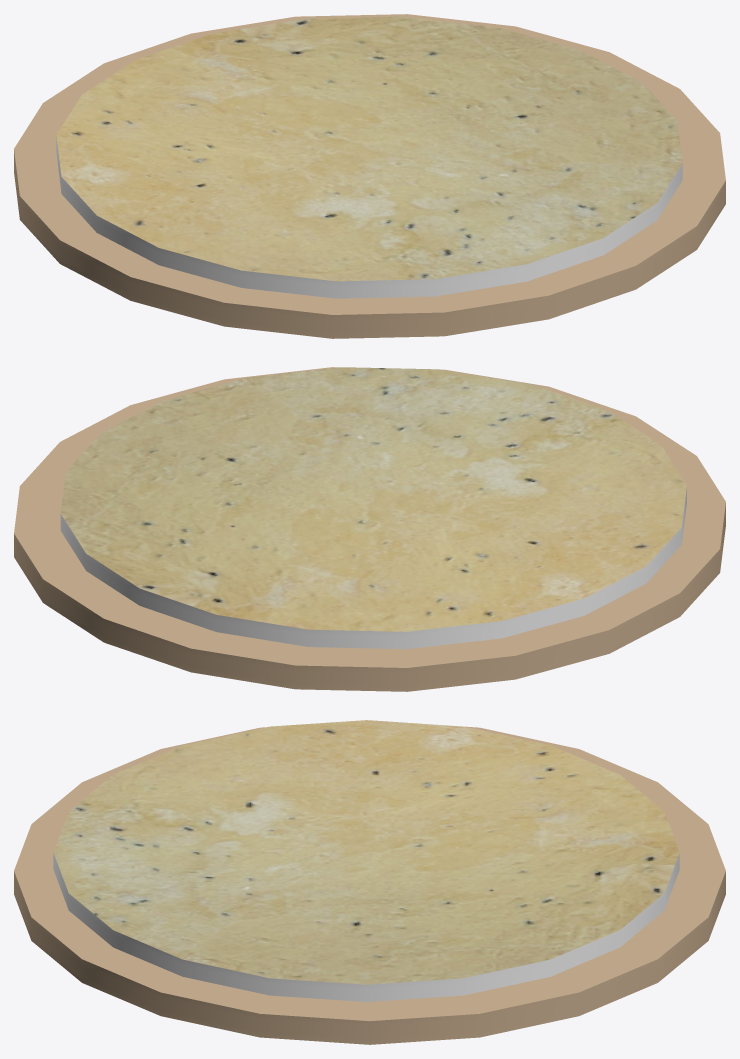
The model's file is pizza.glb.
3 renders of one model, top to bottom at view 1: azimuth 30°, elevation 25°; view 2: azimuth 150°, elevation 25°; view 3: azimuth 270°, elevation 25°, orthographic.
Parts seen in each view (by area): view 1: Cylinder.1-Mat.002, Cylinder.15, Cylinder.1-Mat.1; view 2: Cylinder.1-Mat.002, Cylinder.15, Cylinder.1-Mat.1; view 3: Cylinder.1-Mat.002, Cylinder.15, Cylinder.1-Mat.1.
Part boxes in pixels (left/top/right/bottom): Cylinder.1-Mat.002: left=56, top=16, right=682, bottom=281; Cylinder.15: left=14, top=14, right=725, bottom=338; Cylinder.1-Mat.1: left=56, top=136, right=682, bottom=298; Cylinder.1-Mat.002: left=60, top=367, right=686, bottom=631; Cylinder.15: left=14, top=367, right=725, bottom=691; Cylinder.1-Mat.1: left=60, top=487, right=686, bottom=649; Cylinder.1-Mat.002: left=53, top=720, right=679, bottom=984; Cylinder.15: left=14, top=723, right=725, bottom=1044; Cylinder.1-Mat.1: left=53, top=853, right=679, bottom=1001.
Size of the model in its own units: 18.85 by 3.06 by 18.85.
Materials: 4 (1 with a texture image).
